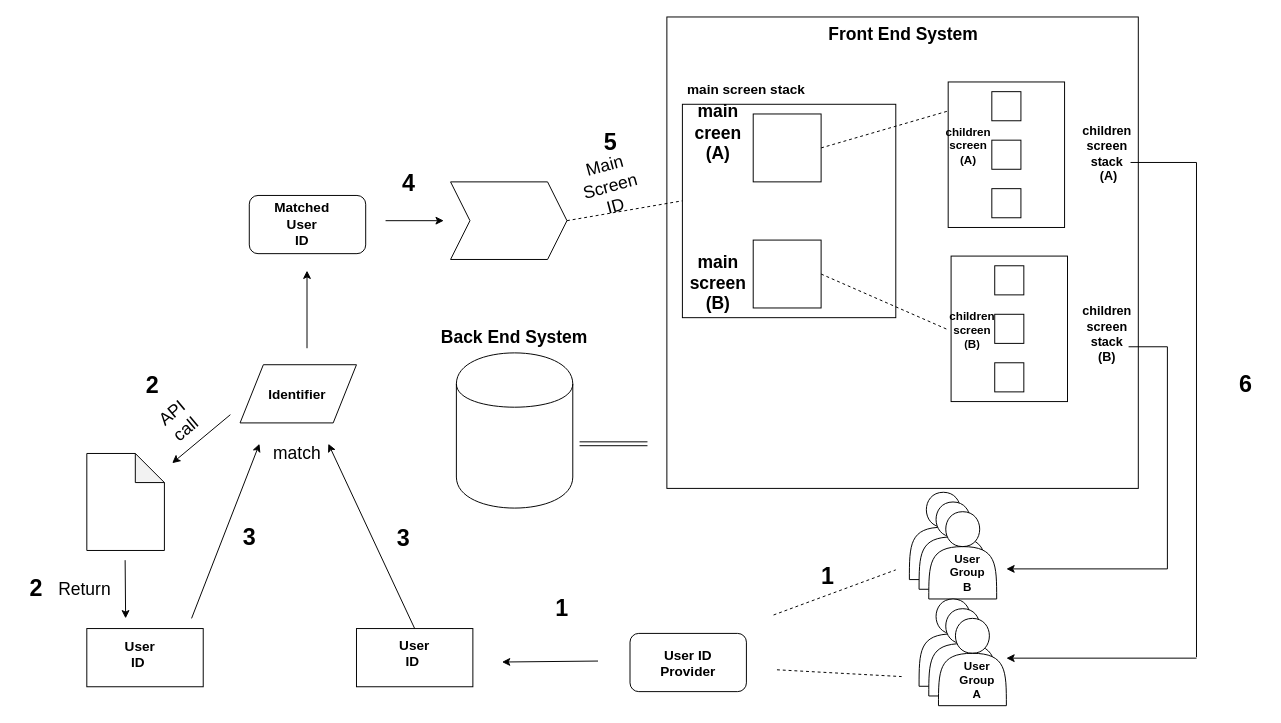
The diagram is 1281 pixels wide and 723 high, and some of its shapes have lost their labels. The shapes that lost their labels are listed below. From the top down, each one's centre as x and y in pixels, then its label:
At (508,220): "Navigator".
At (125,501): ".JSON (User ID)".
